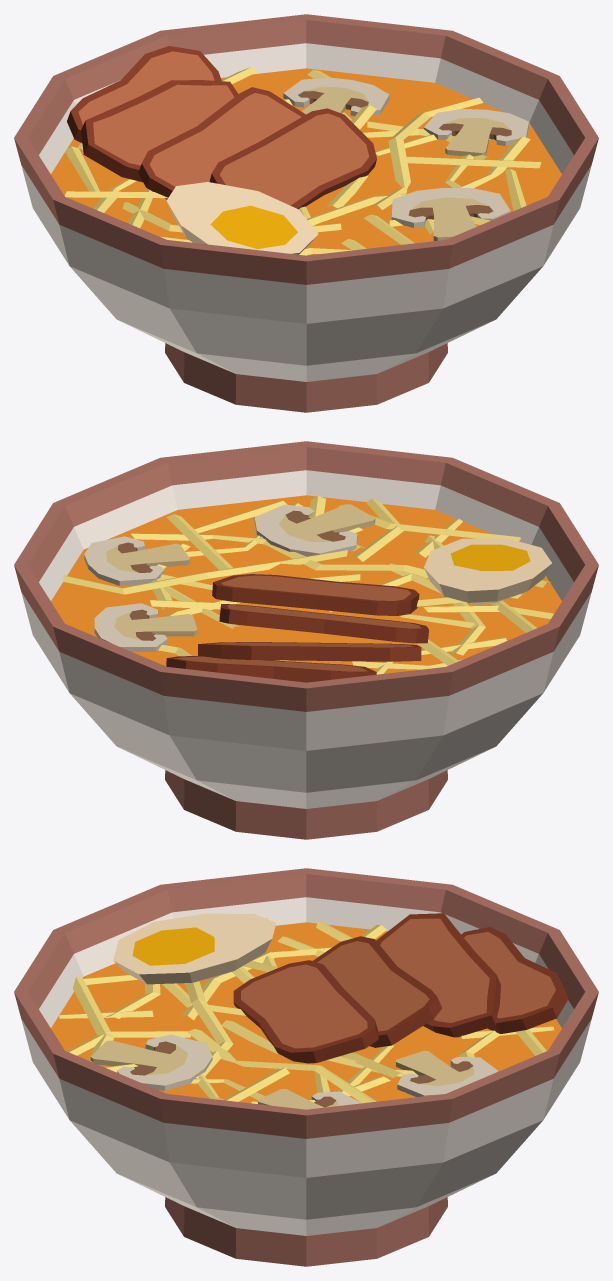
Rendered from Ramen.fbx.
3 renders of one model, top to bottom at view 1: azimuth 30°, elevation 25°; view 2: azimuth 150°, elevation 25°; view 3: azimuth 270°, elevation 25°, orthographic.
Visible parts, largest first — view 1: Ramen; view 2: Ramen; view 3: Ramen.
Boxes of the visible parts, x1=… form: Ramen: x1=14, y1=14, x2=598, y2=412; Ramen: x1=14, y1=441, x2=598, y2=839; Ramen: x1=14, y1=868, x2=598, y2=1266.
Size of the model in its own units: 7.03 by 2.91 by 7.03.
1 material, 1 textured.
